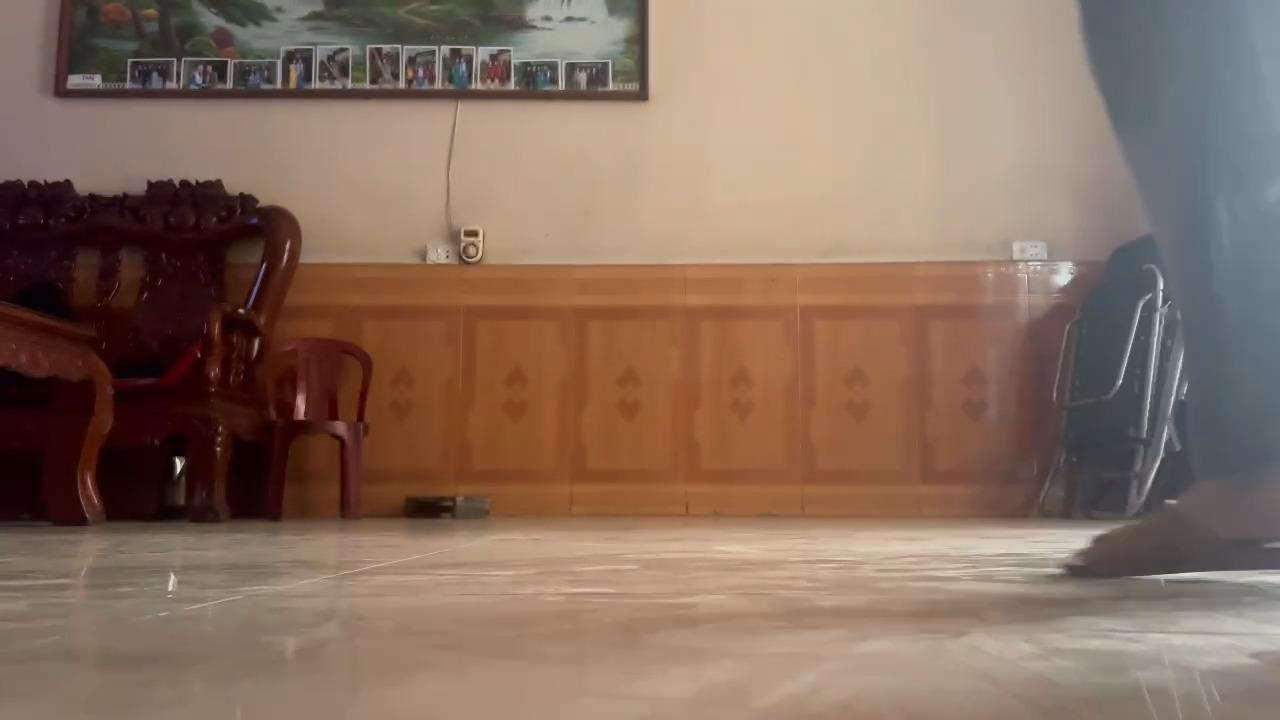no-boot: (1053, 480, 1280, 605)
